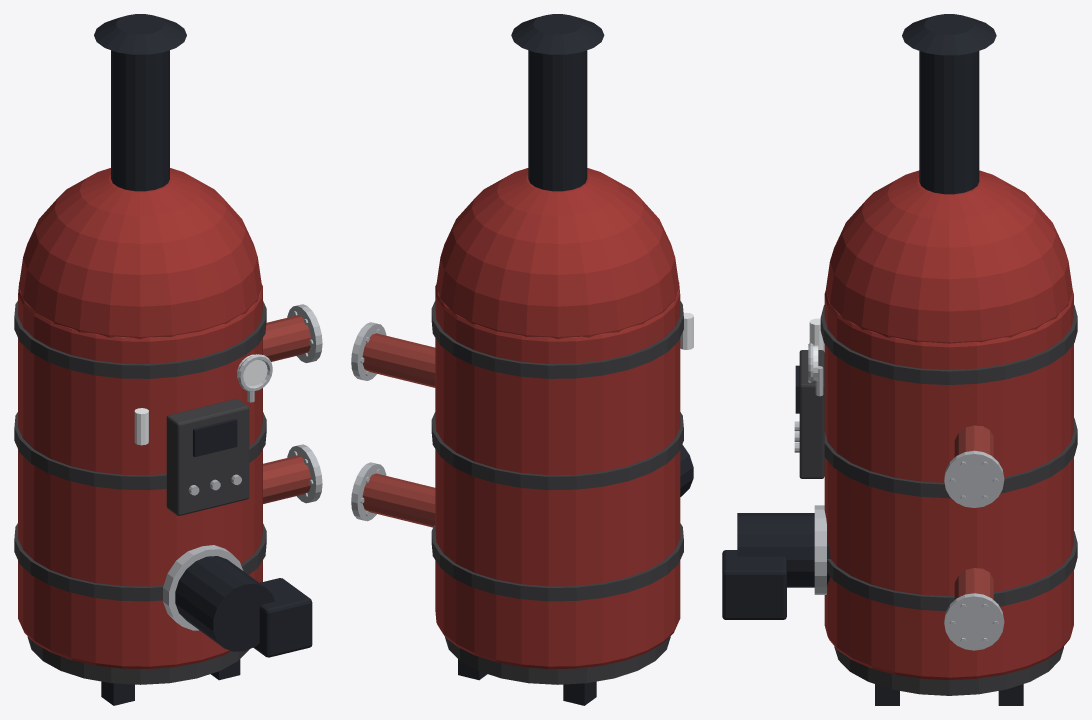
Rendered from boiler.glb.
The picture shows the model from 3 angles, left to right: view 1: azimuth 30°, elevation 25°; view 2: azimuth 150°, elevation 25°; view 3: azimuth 270°, elevation 25°; orthographic projection.
Parts seen in each view (by area): view 1: boiler_boiler_body, boiler_chiller_dark, boiler_boiler_band, boiler_chiller_metal, boiler_boiler_pipe, boiler_gauge_face; view 2: boiler_boiler_body, boiler_boiler_band, boiler_chiller_dark, boiler_boiler_pipe, boiler_chiller_metal; view 3: boiler_boiler_body, boiler_chiller_dark, boiler_boiler_band, boiler_chiller_metal, boiler_boiler_pipe, boiler_gauge_face.
Boxes of the visible parts, x1,y1,x2,y2 form: boiler_boiler_body: (18,168,262,668); boiler_chiller_dark: (94,14,312,705); boiler_boiler_band: (14,301,266,684); boiler_chiller_metal: (163,304,322,630); boiler_boiler_pipe: (263,315,310,503); boiler_gauge_face: (134,354,267,445); boiler_boiler_body: (435,168,680,668); boiler_boiler_band: (431,301,683,684); boiler_chiller_dark: (458,14,693,705); boiler_boiler_pipe: (362,333,435,527); boiler_chiller_metal: (351,322,386,521); boiler_boiler_body: (824,170,1073,680); boiler_chiller_dark: (722,14,1023,705); boiler_boiler_band: (799,305,1077,695); boiler_chiller_metal: (794,343,1004,650); boiler_boiler_pipe: (954,425,993,599); boiler_gauge_face: (809,318,824,380).
Bounding box in the file's own units: 1.37 × 2.88 × 1.42.
